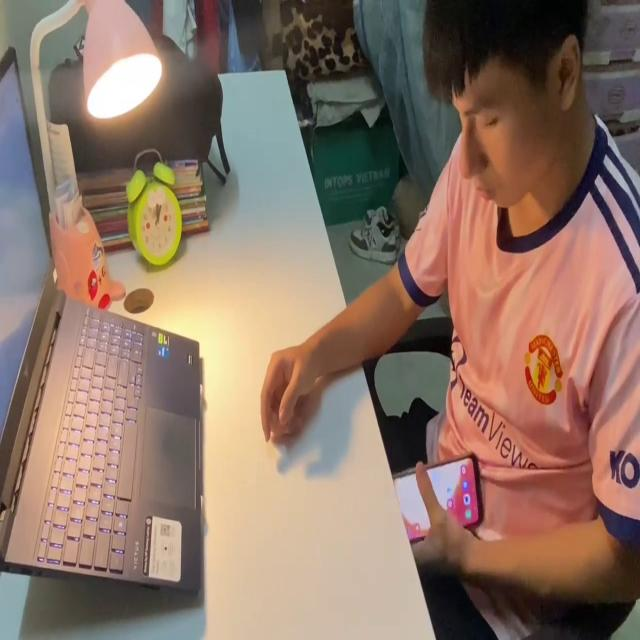laptop: (0, 47, 211, 621)
phone: (392, 454, 487, 546)
student: (261, 0, 640, 640)
